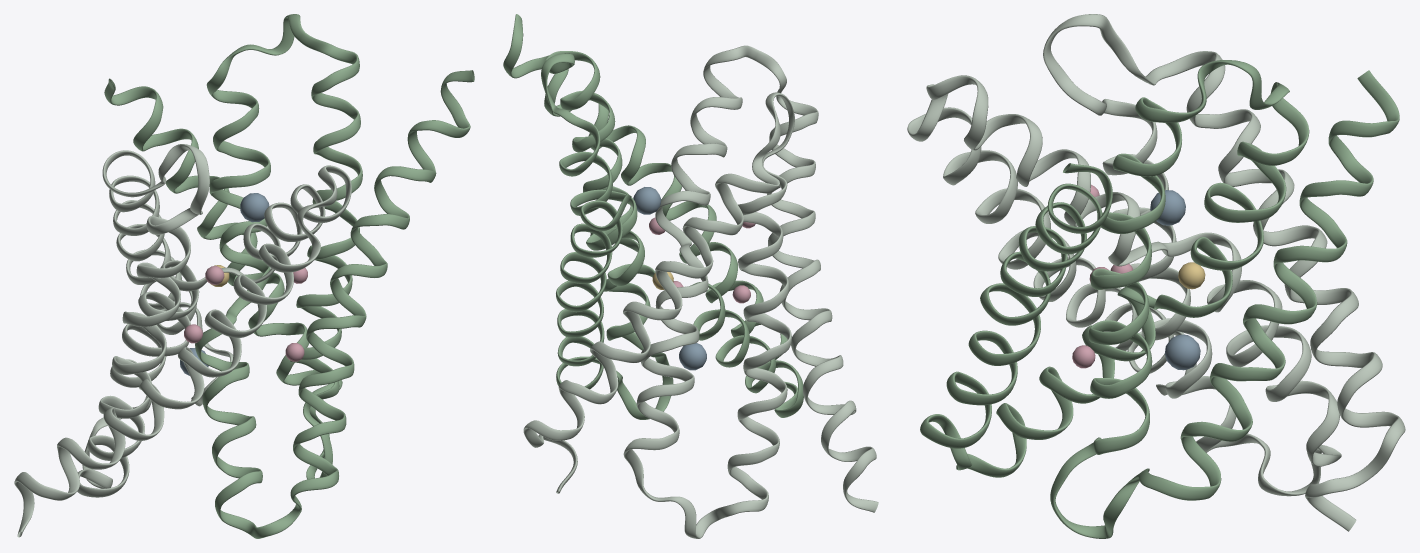
The model's file is Fluc-ACS.glb.
3 views of the same model, side by side, from view 1: azimuth 30°, elevation 25°; view 2: azimuth 150°, elevation 25°; view 3: azimuth 270°, elevation 25° (orthographic). The views are drawn at different scales.
Visible parts, largest first — view 1: Fluc-ACS; view 2: Fluc-ACS; view 3: Fluc-ACS.
Part boxes in pixels (x1,y1,x2,y2): Fluc-ACS: (14,14,474,538); Fluc-ACS: (503,14,878,538); Fluc-ACS: (907,14,1405,538).
Bounding box in the file's own units: 2.89 × 2.93 × 2.46.
